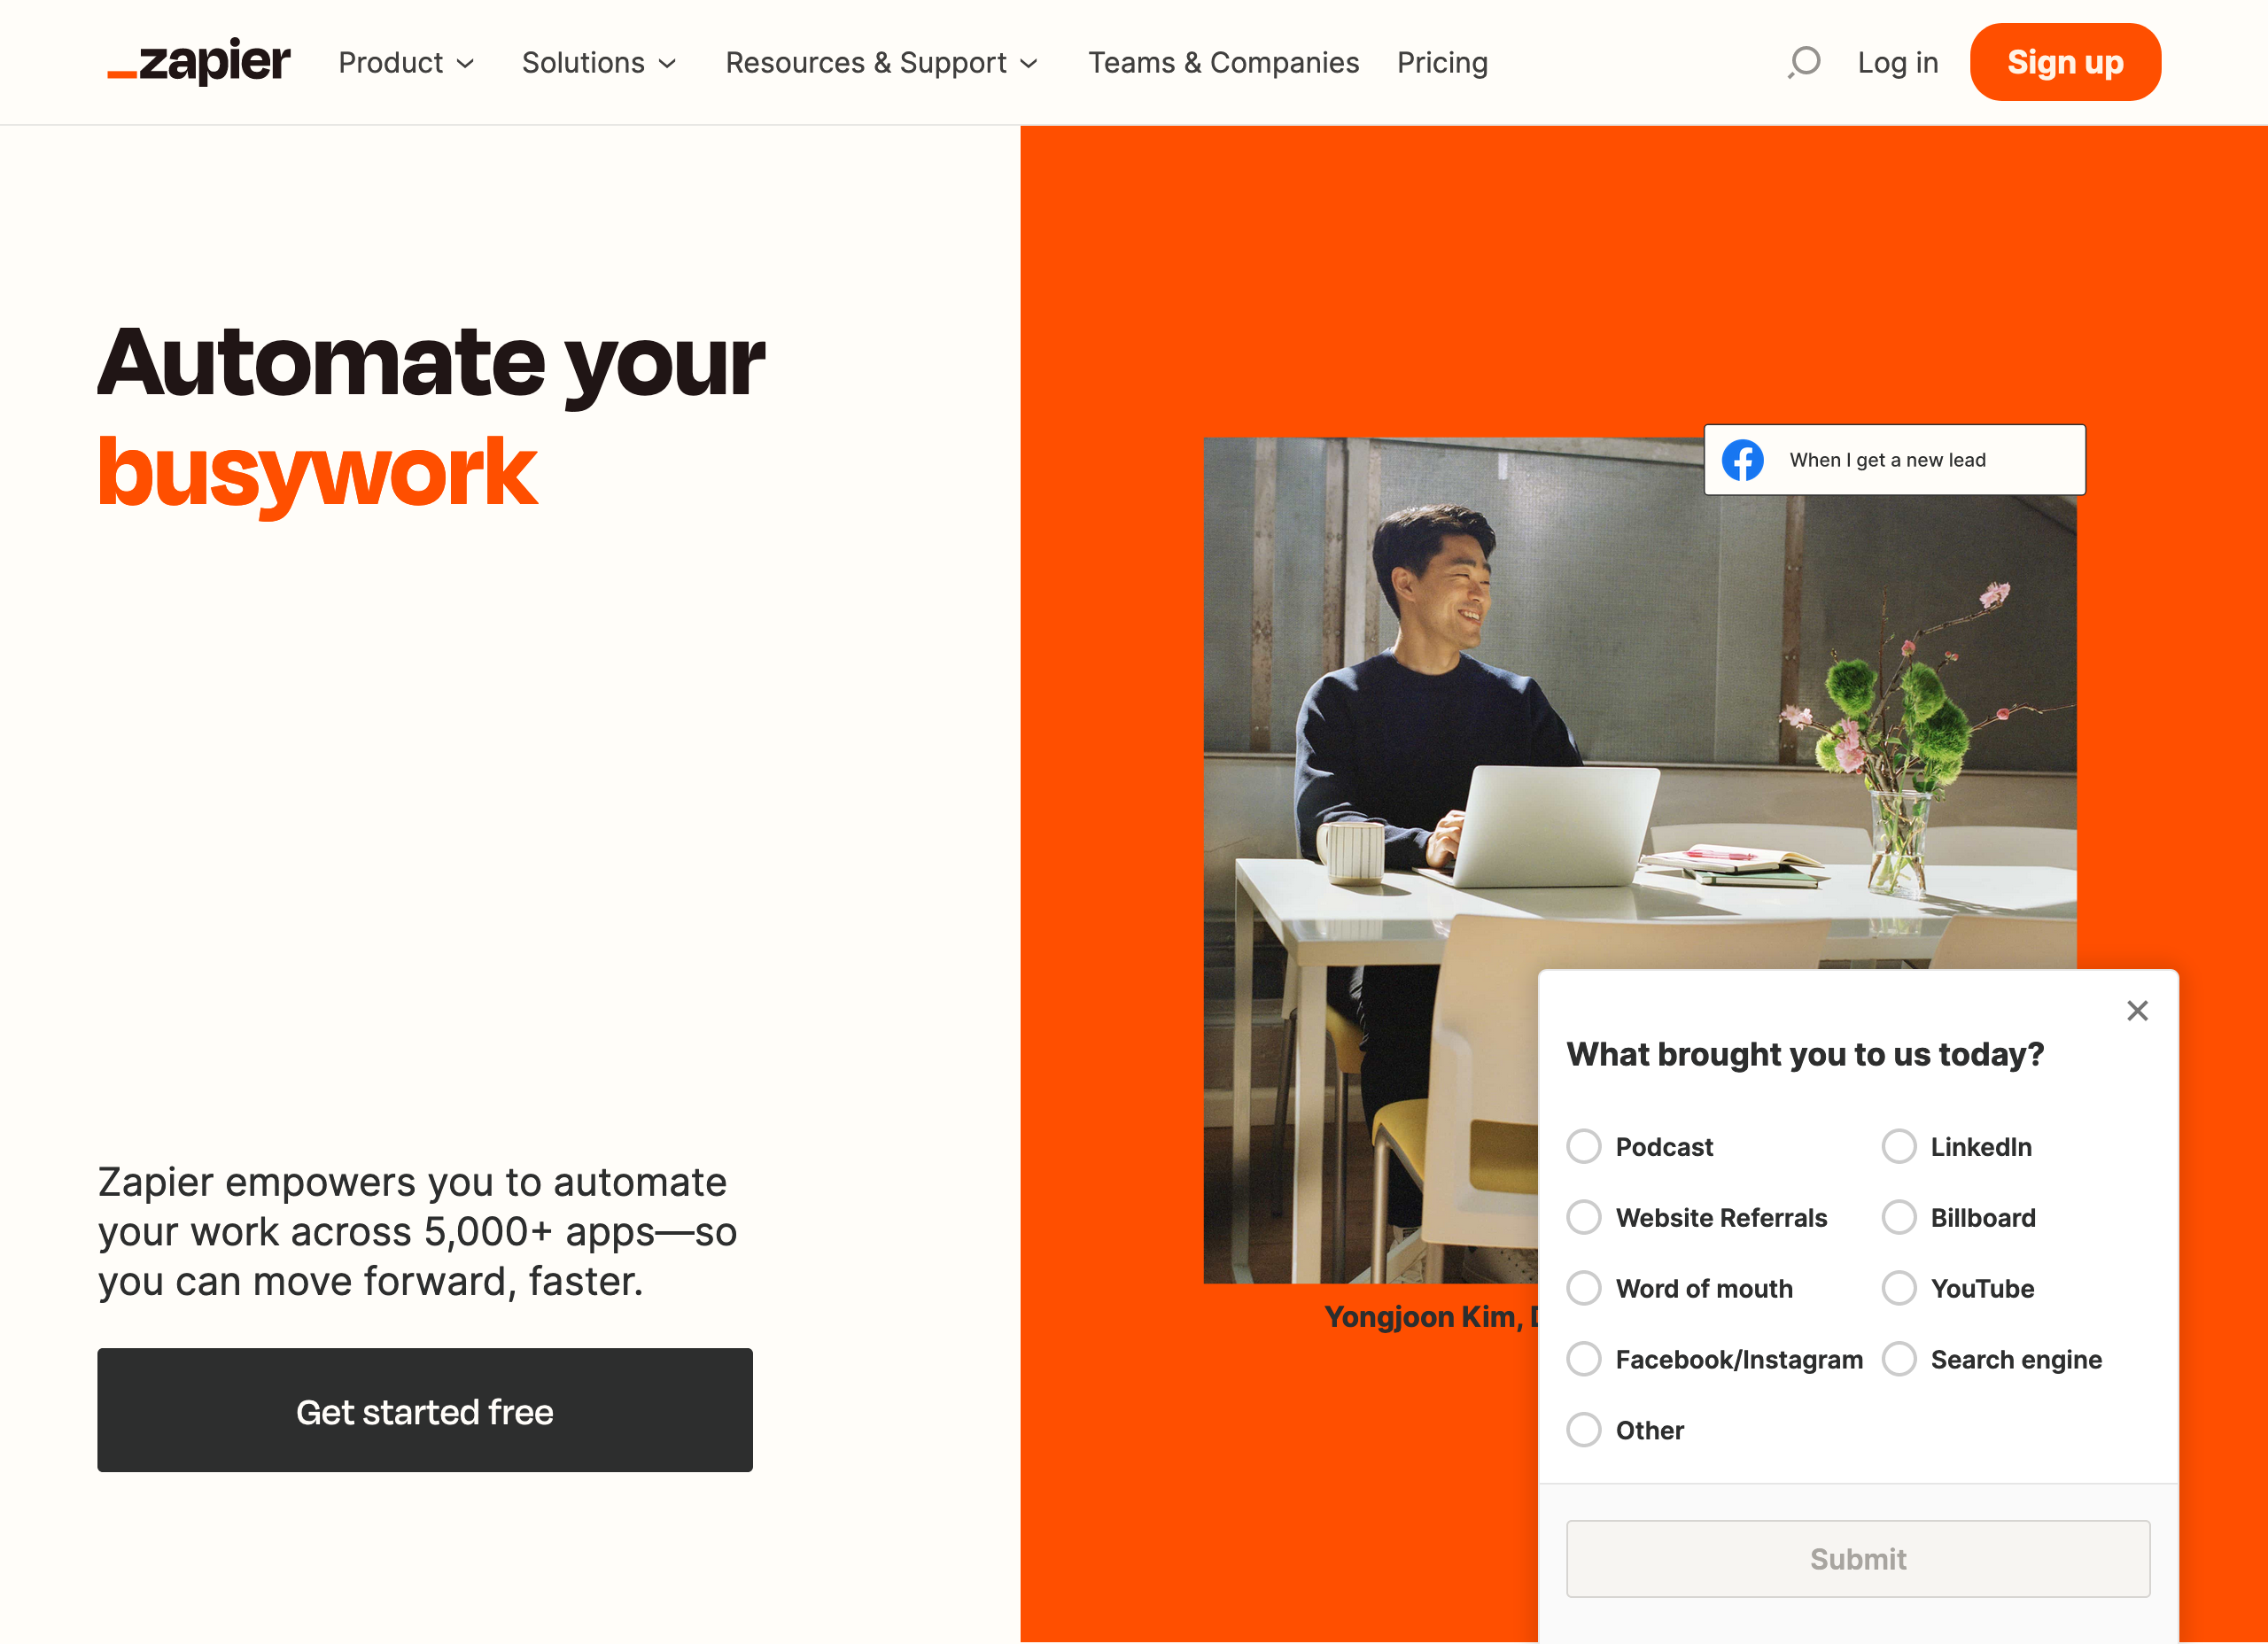Login: (1849, 33, 1949, 92)
